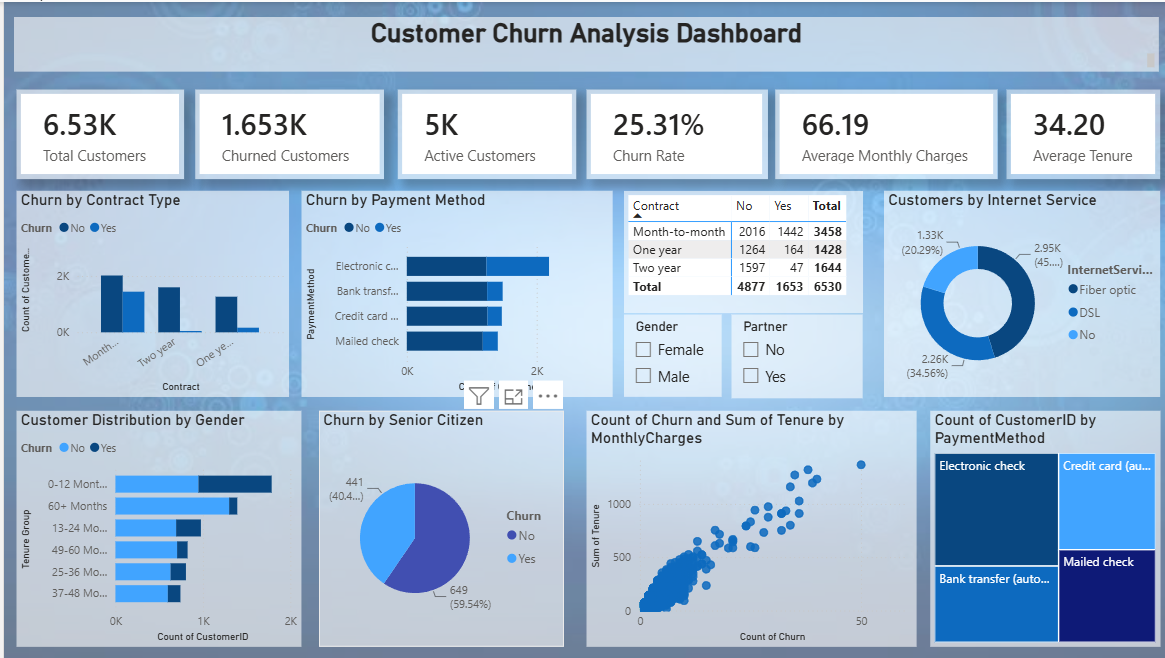

Layout of this report page (visuals, bound fields, positions):
{"tool":"powerbi","page":{"name":"Page 1","canvas":[1280,720],"ordinal":0},"visuals":[{"type":"cardVisual","fields":{"Data":["WA_Fn-UseC_-Telco-Customer-Churn.Total Customers"]},"box":[13.7,96.1,183.9,98.8],"z":0},{"type":"cardVisual","fields":{"Data":["WA_Fn-UseC_-Telco-Customer-Churn.Churned Customers"]},"box":[209.9,96.1,207.2,98.8],"z":1000},{"type":"cardVisual","fields":{"Data":["WA_Fn-UseC_-Telco-Customer-Churn.Active Customers"]},"box":[432.2,96.1,196.2,98.8],"z":2000},{"type":"cardVisual","fields":{"Data":["WA_Fn-UseC_-Telco-Customer-Churn.Churn Rate"]},"box":[639.5,96.1,199,98.8],"z":3000},{"type":"cardVisual","fields":{"Data":["WA_Fn-UseC_-Telco-Customer-Churn.Average Monthly Charges"]},"box":[846.7,96.1,244.3,98.8],"z":4000},{"type":"cardVisual","fields":{"Data":["WA_Fn-UseC_-Telco-Customer-Churn.Average Tenure"]},"box":[1100.5,96.1,168.8,98.8],"z":5000},{"type":"clusteredColumnChart","title":"Churn by Contract Type","fields":{"Series":["WA_Fn-UseC_-Telco-Customer-Churn.Churn"],"Y":["CountNonNull(WA_Fn-UseC_-Telco-Customer-Churn.CustomerID)"],"Category":["WA_Fn-UseC_-Telco-Customer-Churn.Contract"]},"box":[13.7,207.2,299.1,226.4],"z":6000},{"type":"barChart","title":"Churn by Payment Method","fields":{"Category":["WA_Fn-UseC_-Telco-Customer-Churn.PaymentMethod"],"Y":["CountNonNull(WA_Fn-UseC_-Telco-Customer-Churn.CustomerID)"],"Series":["WA_Fn-UseC_-Telco-Customer-Churn.Churn"]},"box":[326.6,207.2,341.7,226.4],"z":7000},{"type":"donutChart","title":"Customers by Internet Service","fields":{"Category":["WA_Fn-UseC_-Telco-Customer-Churn.InternetService"],"Y":["CountNonNull(WA_Fn-UseC_-Telco-Customer-Churn.CustomerID)"]},"box":[966,207.2,303.3,226.4],"z":8000},{"type":"barChart","title":"Customer Distribution by Gender","fields":{"Y":["CountNonNull(WA_Fn-UseC_-Telco-Customer-Churn.CustomerID)"],"Category":["WA_Fn-UseC_-Telco-Customer-Churn.Tenure Group"],"Series":["WA_Fn-UseC_-Telco-Customer-Churn.Churn"]},"box":[13.7,448.7,312.9,259.3],"z":9000},{"type":"scatterChart","fields":{"Category":["WA_Fn-UseC_-Telco-Customer-Churn.MonthlyCharges"],"X":["CountNonNull(WA_Fn-UseC_-Telco-Customer-Churn.Churn)"],"Y":["Sum(WA_Fn-UseC_-Telco-Customer-Churn.Tenure)"]},"box":[639.5,448.7,362.3,259.3],"z":10000},{"type":"pieChart","title":"Churn by Senior Citizen","fields":{"Category":["WA_Fn-UseC_-Telco-Customer-Churn.Churn"],"Y":["Sum(WA_Fn-UseC_-Telco-Customer-Churn.SeniorCitizen)"]},"box":[345.8,448.7,269,259.3],"z":11000},{"type":"pivotTable","fields":{"Rows":["WA_Fn-UseC_-Telco-Customer-Churn.Contract"],"Columns":["WA_Fn-UseC_-Telco-Customer-Churn.Churn"],"Values":["CountNonNull(WA_Fn-UseC_-Telco-Customer-Churn.CustomerID)"]},"box":[680.6,207.2,262.1,134.5],"z":12000},{"type":"slicer","fields":{"Values":["WA_Fn-UseC_-Telco-Customer-Churn.Gender"]},"box":[680.6,343.1,107,90.6],"z":13000},{"type":"slicer","fields":{"Values":["WA_Fn-UseC_-Telco-Customer-Churn.Partner"]},"box":[798.6,343.1,144.1,91.9],"z":14000},{"type":"treemap","fields":{"Group":["WA_Fn-UseC_-Telco-Customer-Churn.PaymentMethod"],"Values":["CountNonNull(WA_Fn-UseC_-Telco-Customer-Churn.CustomerID)"]},"box":[1016.8,448.7,252.5,259.3],"z":15000},{"type":"textbox","title":"Customer Churn Analysis Dashboard","box":[11,16.5,1257,60.4],"z":16000}]}

Visuals, with their boxes in screenshot pixels (x1, y1, x2, y2), scaled from the page's 1280x720 canvas onto the 1165x658 screenshot:
cardVisual - WA_Fn-UseC_-Telco-Customer-Churn.Total Customers: rect(12, 88, 180, 178)
cardVisual - WA_Fn-UseC_-Telco-Customer-Churn.Churned Customers: rect(191, 88, 380, 178)
cardVisual - WA_Fn-UseC_-Telco-Customer-Churn.Active Customers: rect(393, 88, 572, 178)
cardVisual - WA_Fn-UseC_-Telco-Customer-Churn.Churn Rate: rect(582, 88, 763, 178)
cardVisual - WA_Fn-UseC_-Telco-Customer-Churn.Average Monthly Charges: rect(771, 88, 993, 178)
cardVisual - WA_Fn-UseC_-Telco-Customer-Churn.Average Tenure: rect(1002, 88, 1155, 178)
"Churn by Contract Type" clusteredColumnChart: rect(12, 189, 285, 396)
"Churn by Payment Method" barChart: rect(297, 189, 608, 396)
"Customers by Internet Service" donutChart: rect(879, 189, 1155, 396)
"Customer Distribution by Gender" barChart: rect(12, 410, 297, 647)
scatterChart - WA_Fn-UseC_-Telco-Customer-Churn.MonthlyCharges x CountNonNull(WA_Fn-UseC_-Telco-Customer-Churn.Churn): rect(582, 410, 912, 647)
"Churn by Senior Citizen" pieChart: rect(315, 410, 560, 647)
pivotTable - WA_Fn-UseC_-Telco-Customer-Churn.Contract x WA_Fn-UseC_-Telco-Customer-Churn.Churn: rect(619, 189, 858, 312)
slicer - WA_Fn-UseC_-Telco-Customer-Churn.Gender: rect(619, 314, 717, 396)
slicer - WA_Fn-UseC_-Telco-Customer-Churn.Partner: rect(727, 314, 858, 398)
treemap - WA_Fn-UseC_-Telco-Customer-Churn.PaymentMethod x CountNonNull(WA_Fn-UseC_-Telco-Customer-Churn.CustomerID): rect(925, 410, 1155, 647)
"Customer Churn Analysis Dashboard" textbox: rect(10, 15, 1154, 70)
